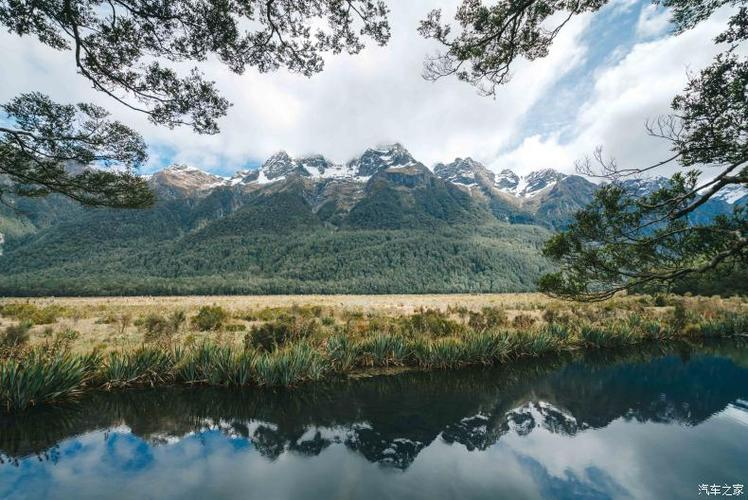mountain: (3, 135, 747, 303)
sea_river: (8, 360, 745, 496)
sky_cloud: (8, 76, 741, 133)
